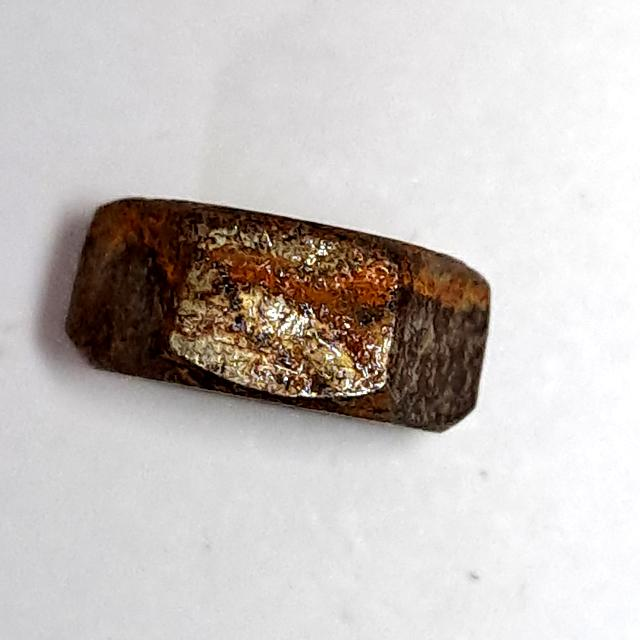Side_Rust: (47, 190, 510, 439)
